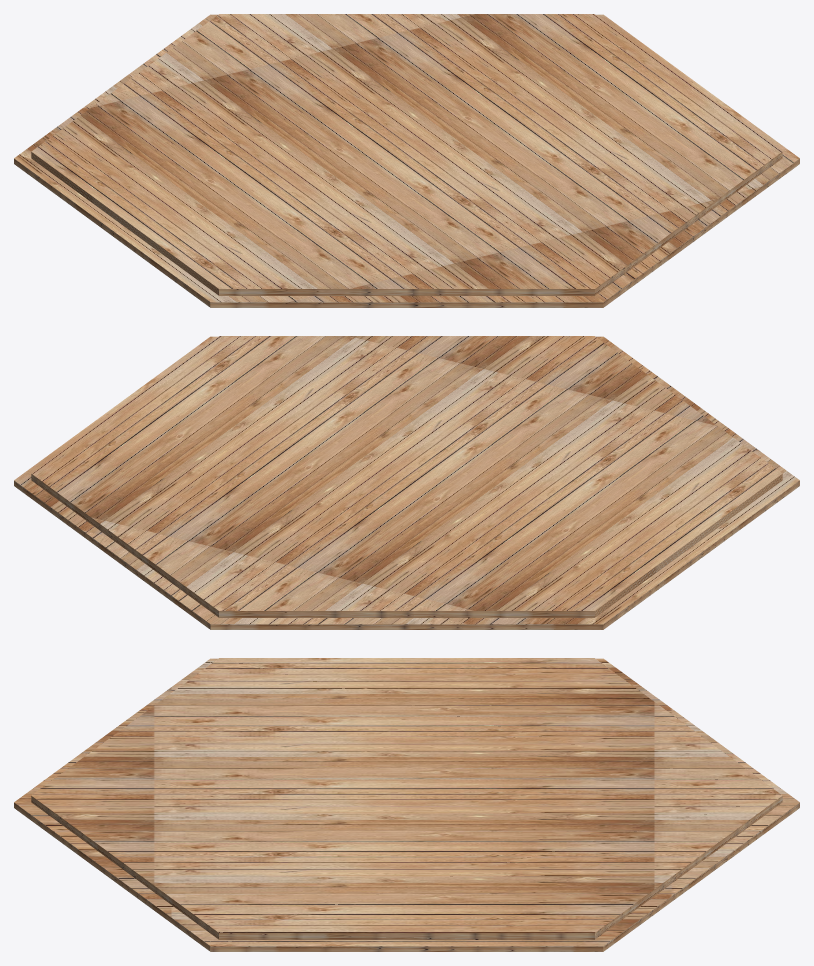
3 renders of one model, top to bottom at view 1: azimuth 30°, elevation 25°; view 2: azimuth 150°, elevation 25°; view 3: azimuth 270°, elevation 25°, orthographic.
Parts seen in each view (by area): view 1: Сцена; view 2: Сцена; view 3: Сцена.
Part boxes in pixels (x1=…): Сцена: x1=14, y1=14, x2=799, y2=307; Сцена: x1=14, y1=336, x2=799, y2=629; Сцена: x1=14, y1=658, x2=799, y2=951.
Bounding box in the file's own units: 11.8 × 0.2374 × 13.62.
Materials: 1 (1 with a texture image).
